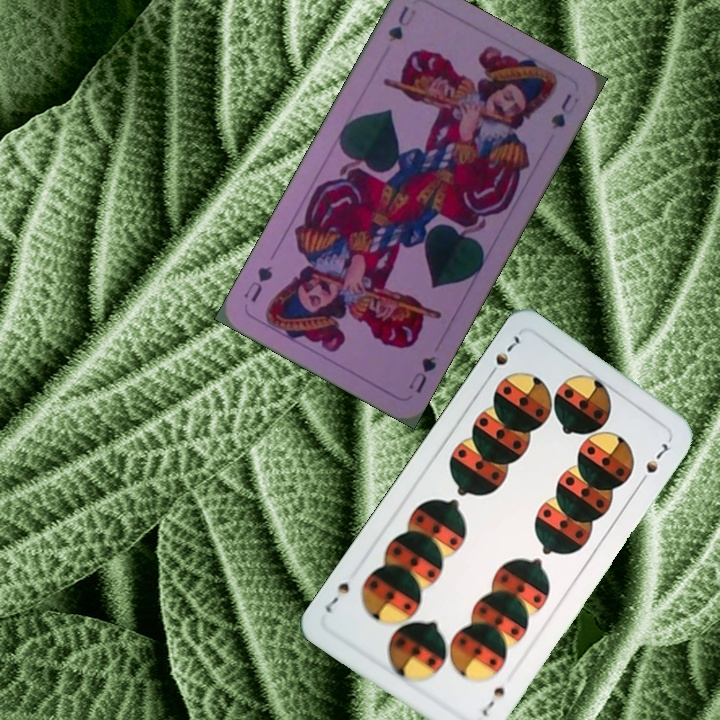GU: (404, 351, 439, 396), (383, 2, 419, 45)
S7: (483, 332, 523, 381), (477, 683, 508, 719)
